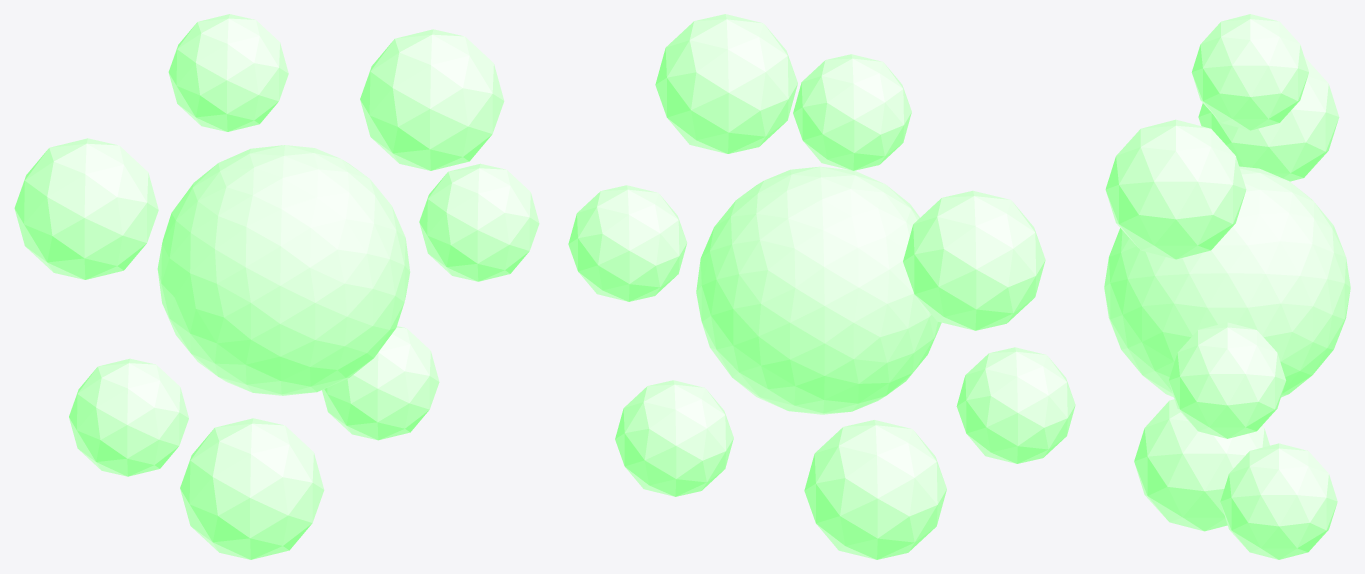
Rendered from radiation_04.glb.
The picture shows the model from 3 angles, left to right: view 1: azimuth 30°, elevation 25°; view 2: azimuth 150°, elevation 25°; view 3: azimuth 270°, elevation 25°; orthographic projection. The views are drawn at different scales.
Parts seen in each view (by area): view 1: hot_core, fragment3, fragment1, fragment5, fragment4, fragment0, fragment2, fragment6; view 2: hot_core, fragment1, fragment3, fragment5, fragment0, fragment2, fragment4, fragment6; view 3: hot_core, fragment1, fragment6, fragment0, fragment2, fragment5, fragment3.
Part boxes in pixels (x1=…): hot_core: x1=157, y1=145, x2=410, y2=395; fragment3: x1=14, y1=138, x2=158, y2=279; fragment1: x1=360, y1=29, x2=504, y2=170; fragment5: x1=180, y1=418, x2=324, y2=559; fragment4: x1=69, y1=358, x2=188, y2=476; fragment0: x1=419, y1=163, x2=539, y2=281; fragment2: x1=168, y1=14, x2=288, y2=131; fragment6: x1=322, y1=326, x2=439, y2=440; hot_core: x1=696, y1=166, x2=941, y2=414; fragment1: x1=655, y1=14, x2=797, y2=153; fragment3: x1=903, y1=190, x2=1045, y2=330; fragment5: x1=804, y1=420, x2=946, y2=559; fragment0: x1=568, y1=185, x2=687, y2=301; fragment2: x1=793, y1=54, x2=911, y2=170; fragment4: x1=956, y1=347, x2=1075, y2=463; fragment6: x1=615, y1=380, x2=733, y2=496; hot_core: x1=1104, y1=166, x2=1350, y2=397; fragment1: x1=1105, y1=119, x2=1246, y2=259; fragment6: x1=1220, y1=443, x2=1337, y2=559; fragment0: x1=1168, y1=322, x2=1286, y2=438; fragment2: x1=1191, y1=14, x2=1308, y2=130; fragment5: x1=1134, y1=399, x2=1269, y2=531; fragment3: x1=1198, y1=57, x2=1339, y2=181.
Bounding box in the file's own units: 1.87 × 1.9 × 0.84.
